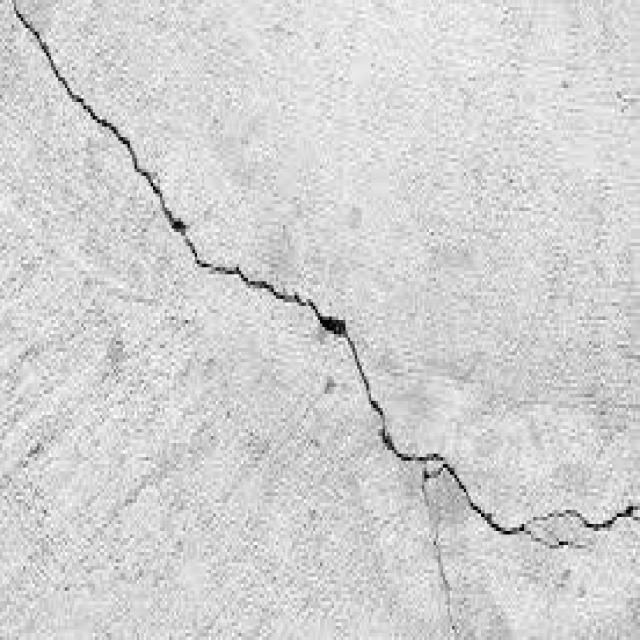Rachadura: (6, 0, 638, 636)
